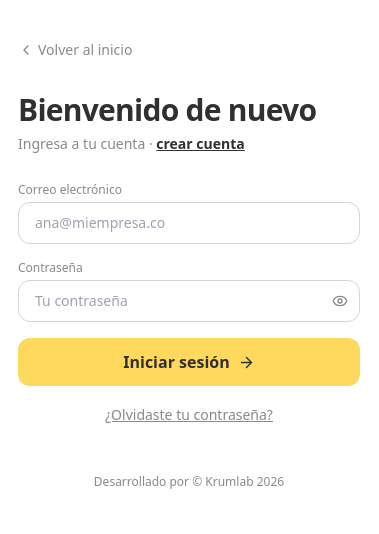
Login › cuando el servidor no responde lo dice, en vez de culpar a la contraseña
The image size is (379, 534).
Type "ana@empresa.co" into the field labelled "Correo electrónico" at (189, 223), box top-left (18, 202), bottom-right (360, 244)
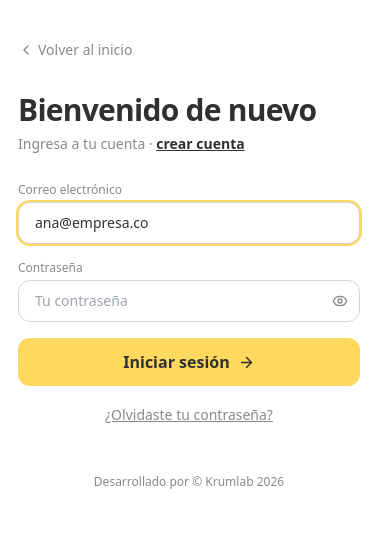
Type "lo-que-sea" into the password field labelled "Contraseña" at (189, 301), box top-left (18, 280), bottom-right (360, 322)
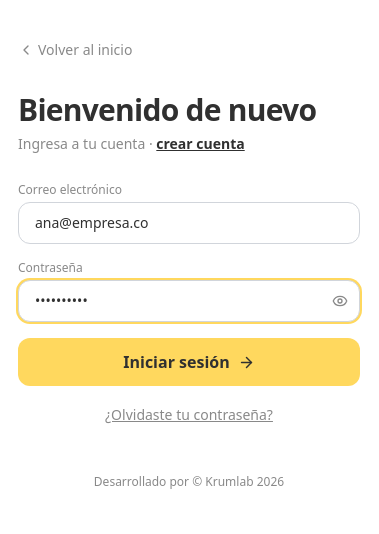
Click the button "Iniciar sesión" at (189, 362), box top-left (18, 338), bottom-right (360, 386)
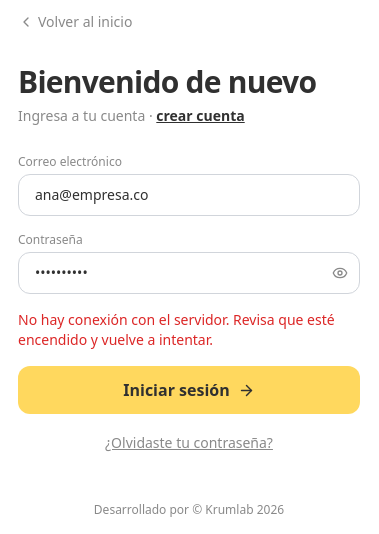
Expected: the text "conexión con el servidor" is shown, top-left (18, 310), bottom-right (335, 349)
